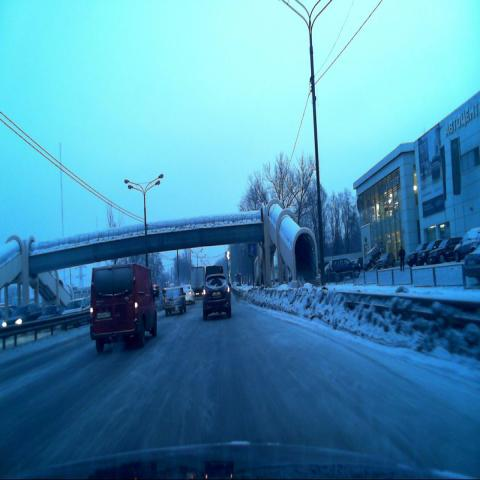6_7: (248, 243, 256, 258)
